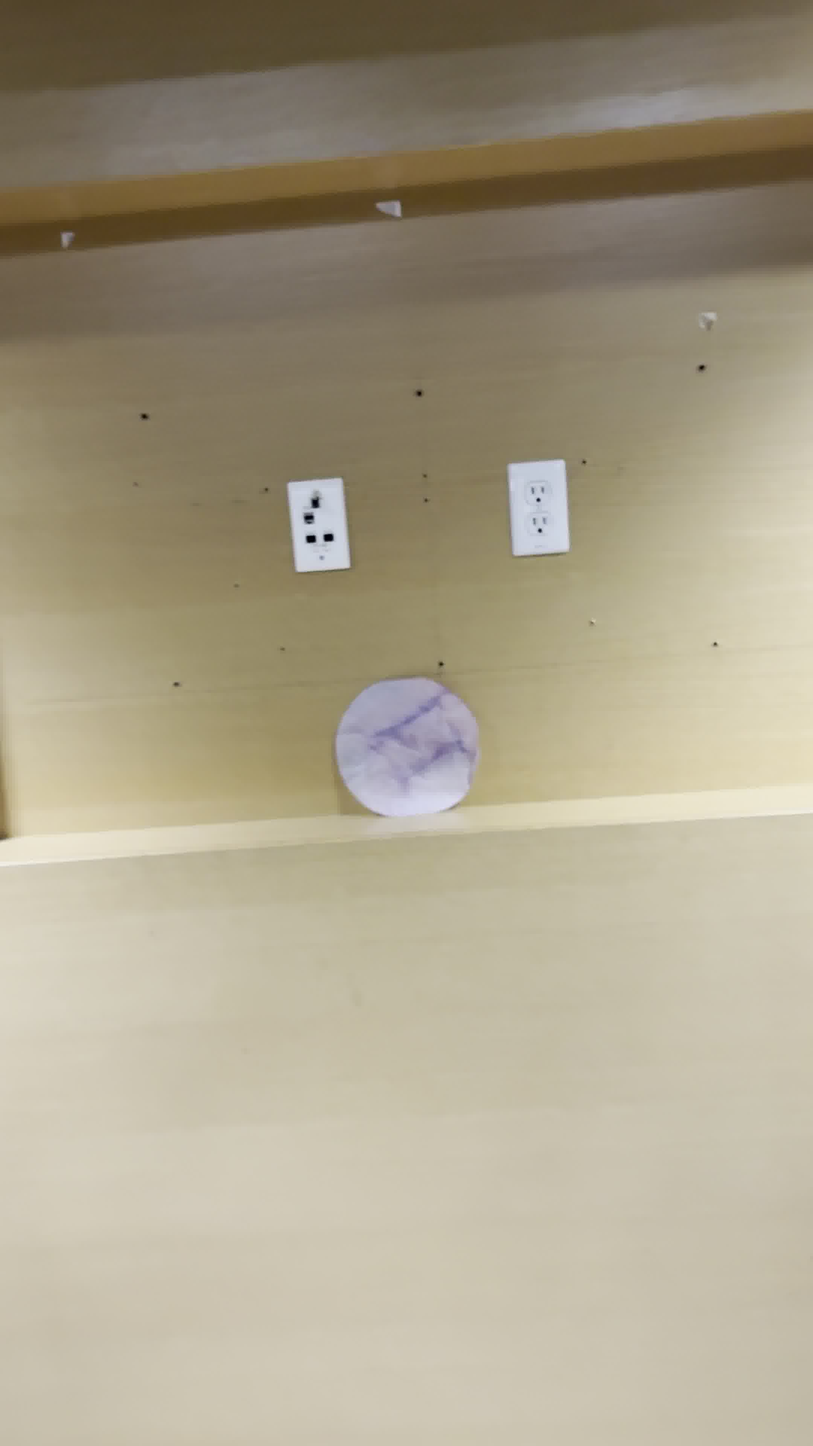Target: (328, 678, 480, 821)
